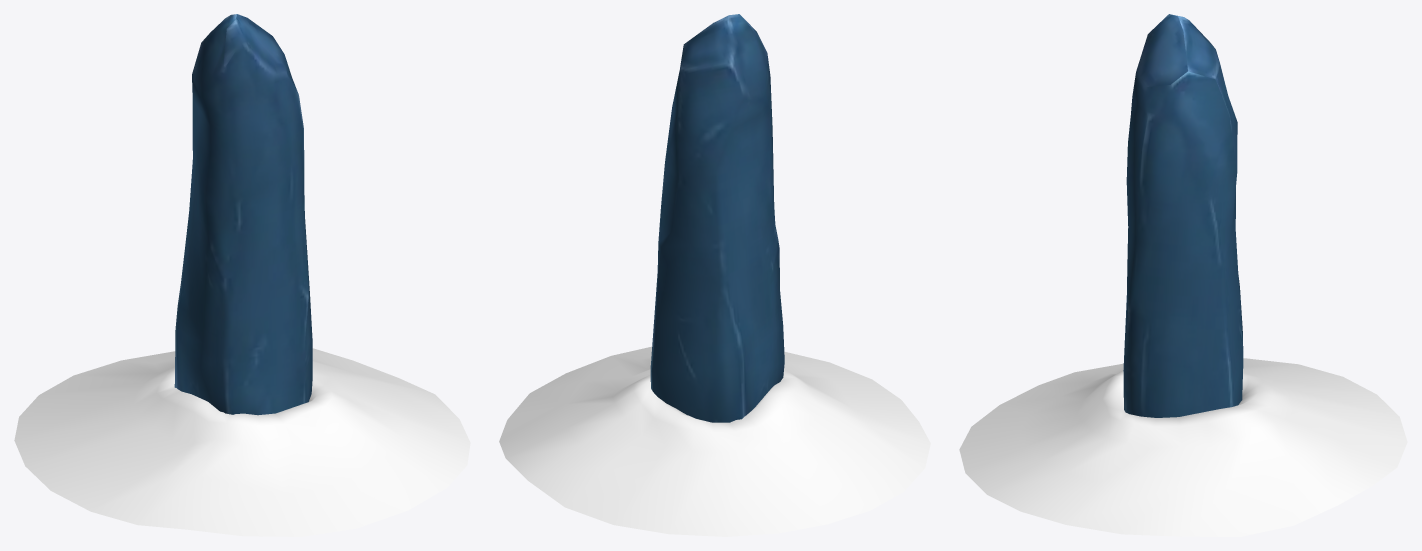
File: crystal2.glb
3 renders of one model, left to right at view 1: azimuth 30°, elevation 25°; view 2: azimuth 150°, elevation 25°; view 3: azimuth 270°, elevation 25°, orthographic.
Parts seen in each view (by area): view 1: crystalbase, crystal2a_LOD0; view 2: crystalbase, crystal2a_LOD0; view 3: crystalbase, crystal2a_LOD0.
Part boxes in pixels (x1,y1,x2,y2): crystalbase: (14,348,470,536); crystal2a_LOD0: (174,14,312,415); crystalbase: (499,346,930,536); crystal2a_LOD0: (650,14,784,422); crystalbase: (959,358,1407,536); crystal2a_LOD0: (1123,14,1243,417).
Bounding box in the file's own units: 2.81 × 3.06 × 2.9.
Materials: 2 (1 with a texture image).
